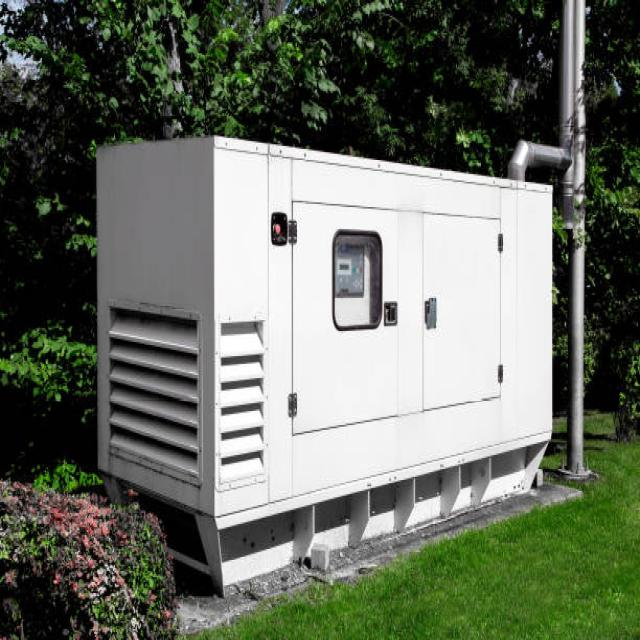Generator: (97, 134, 556, 597)
